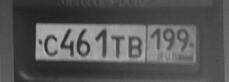license-plateSW: (35, 22, 197, 66)
